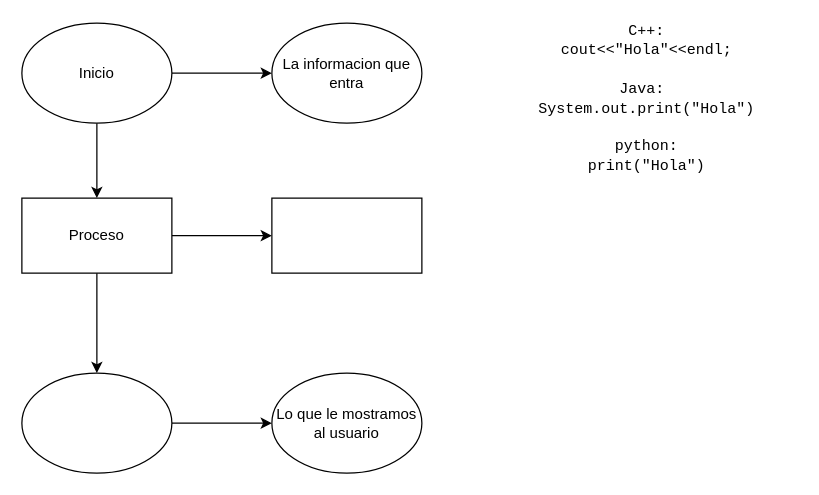
This 819x495 diagram has some shape labels left out. The box of each missing label's shape, as (x1, y1, x2, y2) in pixels:
Que se hace con la información: (271, 197, 422, 273)
Salida: (21, 372, 172, 473)
